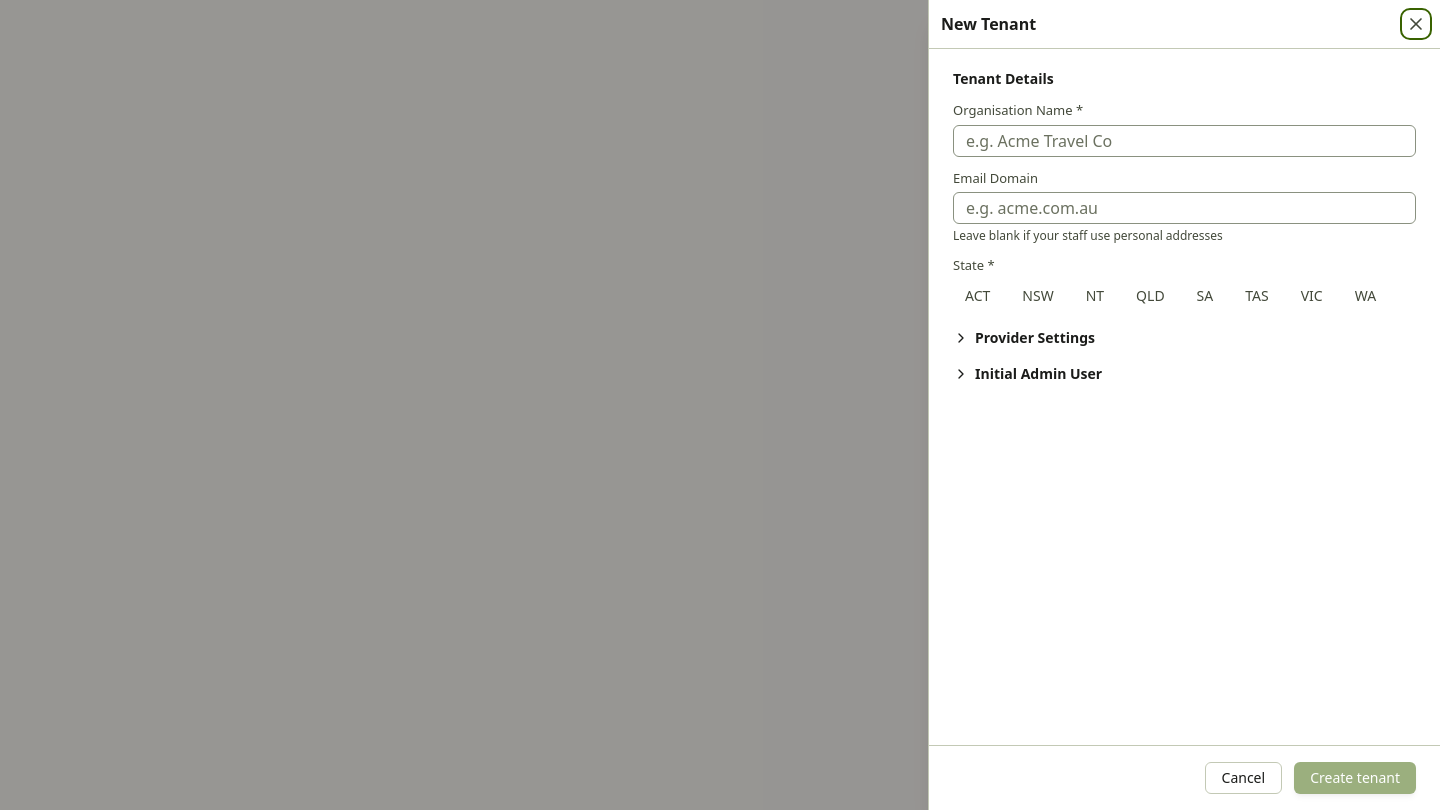
Test: TenantFormPanel create: optional domain, required state › waits for a name and a state, but not for a domain
The width and height of the screenshot is (1440, 810).
In the field with placeholder "e.g. Acme Travel Co": (1184, 140) x1=953 y1=124 x2=1416 y2=156, type "Jo Care"
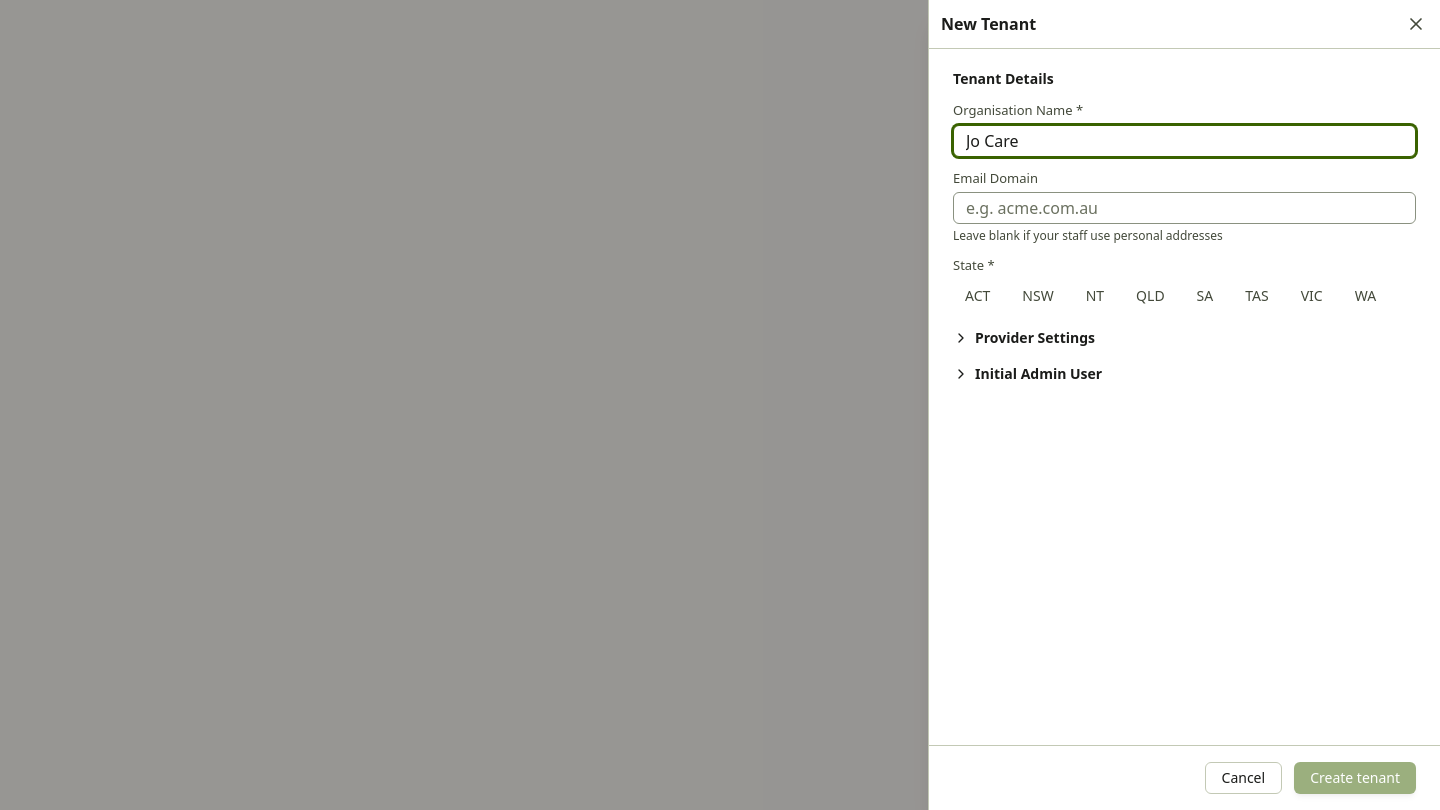
Expected: the button "Create tenant" is disabled, x1=1294 y1=762 x2=1416 y2=794
Click the radio button labelled "WA": click(1365, 296) x1=1343 y1=280 x2=1388 y2=312
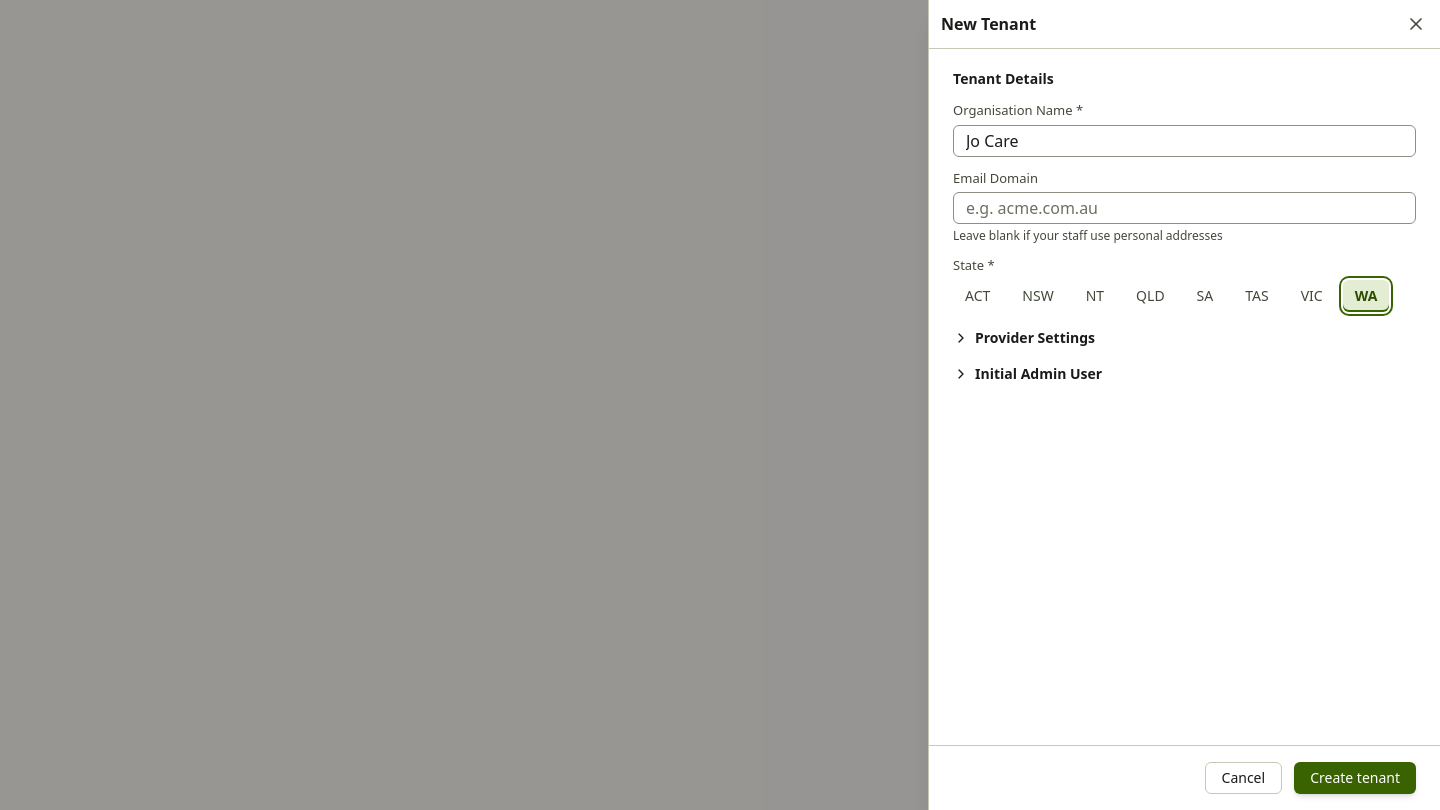
Now the button "Create tenant" is enabled, box x1=1294 y1=762 x2=1416 y2=794
